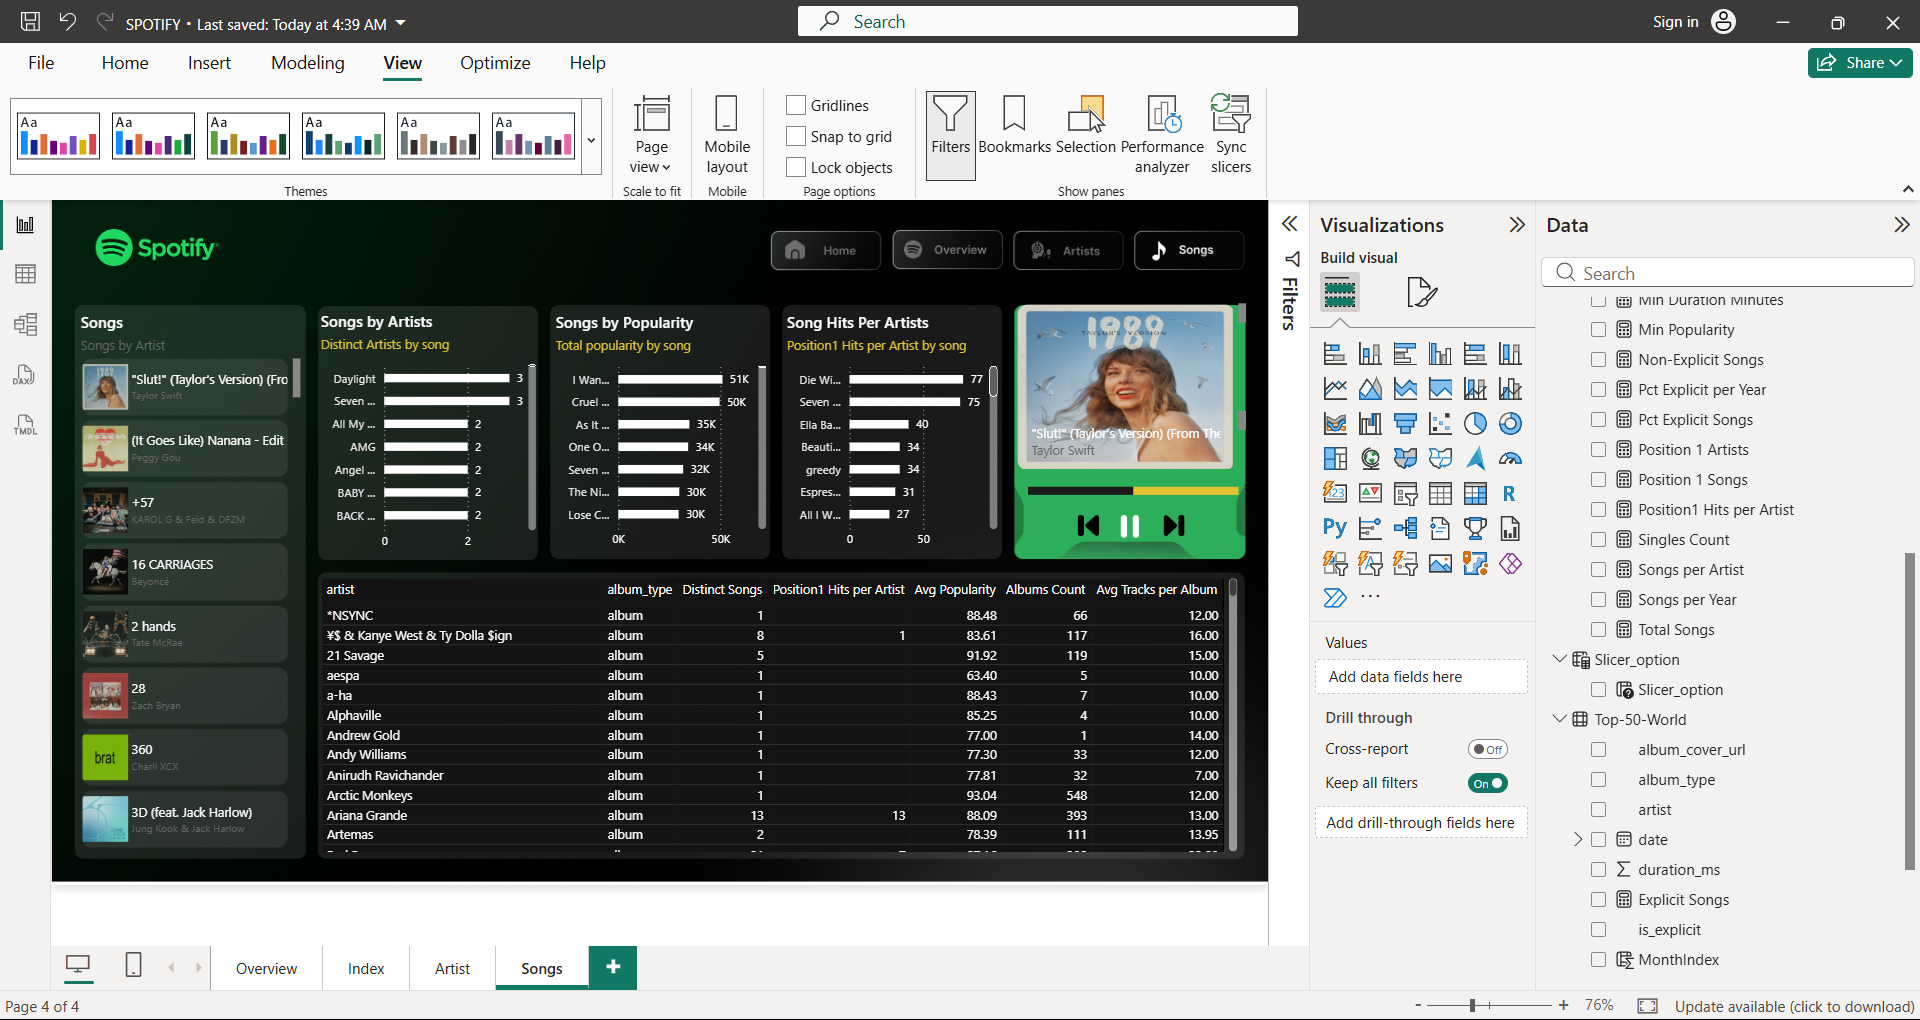

What the dashboard file says about the page in this screenshot:
{"tool":"powerbi","page":{"name":"Songs","canvas":[1280,720],"ordinal":3},"visuals":[{"type":"actionButton","box":[754,31,115.7,40.7],"z":0},{"type":"actionButton","box":[881.5,31,115.7,40.7],"z":1000},{"type":"actionButton","box":[1009,31,115.7,40.7],"z":2000},{"type":"actionButton","box":[1136.5,31,115.7,40.7],"z":3000},{"type":"advancedSlicerVisual","title":"Songs","fields":{"Values":["Top-50-World.song"]},"box":[1009.5,103.8,252.4,185.3],"z":4000},{"type":"advancedSlicerVisual","title":"Songs","fields":{"Values":["Top-50-World.song"]},"box":[1013.4,216.9,248.4,72.3],"z":5000},{"type":"image","box":[1076,329.4,28.9,25],"z":6000},{"type":"image","box":[1168,329.4,25,25],"z":7000},{"type":"image","box":[1122,330.7,23.7,23.7],"z":8000},{"type":"hundredPercentStackedBarChart","fields":{"Y":["_Measures.Avg Popularity","_Measures.Avg Popularity Explicit"]},"box":[1022.6,265.5,231.3,74.9],"z":9000},{"type":"advancedSlicerVisual","title":"Songs","fields":{"Values":["Top-50-World.song"]},"box":[26.3,117,241.9,573.1],"z":10000},{"type":"tableEx","fields":{"Values":["Top-50-World.artist","Top-50-World.album_type","_Measures.Distinct Songs","_Measures.Position1 Hits per Artist","_Measures.Avg Popularity","_Measures.Albums Count","_Measures.Avg Tracks per Album"]},"box":[278.7,393,974,297.1],"z":11000},{"type":"clusteredBarChart","title":"Songs by Artists","fields":{"Category":["Top-50-World.song"],"Y":["_Measures.Distinct Artists"]},"box":[278.7,115.7,236.6,260.3],"z":12000},{"type":"clusteredBarChart","title":"Songs by Popularity","fields":{"Y":["Sum(Top-50-World.popularity)"],"Category":["Top-50-World.song"]},"box":[525.8,117,231.3,257.6],"z":13000},{"type":"clusteredBarChart","title":"Song Hits Per Artists","fields":{"Category":["Top-50-World.song"],"Y":["_Measures.Position1 Hits per Artist"]},"box":[768.9,117,231.3,257.6],"z":14000}]}

Visuals, with their boxes on the page's 1280x720 design canvas (x1, y1, x2, y2). These are canvas units, not pixel positions in the 1920x1020 screenshot, which may show the page scaled, cropped or inside an application window:
actionButton: <region>754, 31, 870, 72</region>
actionButton: <region>882, 31, 997, 72</region>
actionButton: <region>1009, 31, 1125, 72</region>
actionButton: <region>1136, 31, 1252, 72</region>
"Songs" advancedSlicerVisual: <region>1010, 104, 1262, 289</region>
"Songs" advancedSlicerVisual: <region>1013, 217, 1262, 289</region>
image: <region>1076, 329, 1105, 354</region>
image: <region>1168, 329, 1193, 354</region>
image: <region>1122, 331, 1146, 354</region>
hundredPercentStackedBarChart - _Measures.Avg Popularity x _Measures.Avg Popularity Explicit: <region>1023, 266, 1254, 340</region>
"Songs" advancedSlicerVisual: <region>26, 117, 268, 690</region>
tableEx - Top-50-World.artist x Top-50-World.album_type: <region>279, 393, 1253, 690</region>
"Songs by Artists" clusteredBarChart: <region>279, 116, 515, 376</region>
"Songs by Popularity" clusteredBarChart: <region>526, 117, 757, 375</region>
"Song Hits Per Artists" clusteredBarChart: <region>769, 117, 1000, 375</region>
